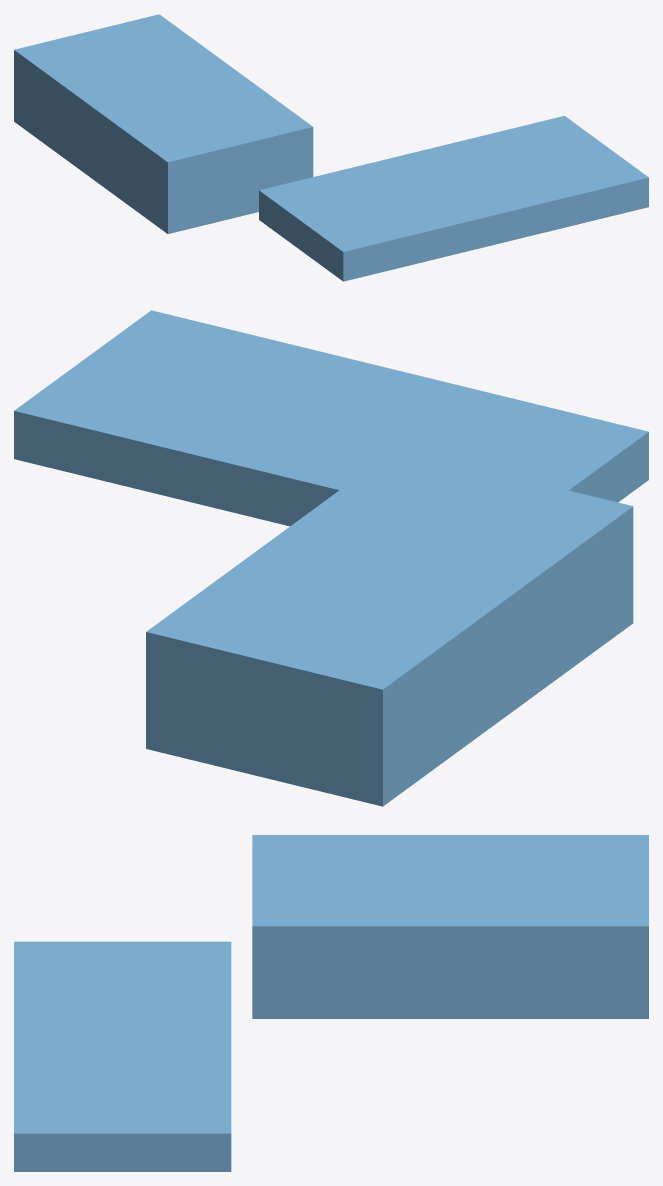
File: seikyo.gltf
3 views of the same model, one above another, from view 1: azimuth 30°, elevation 25°; view 2: azimuth 150°, elevation 25°; view 3: azimuth 270°, elevation 25° (orthographic). The views are drawn at different scales.
Parts seen in each view (by area): view 1: 立方体.011, 立方体.010; view 2: 立方体.011, 立方体.010; view 3: 立方体.011, 立方体.010.
Boxes of the visible parts, left/top/right/bottom form: 立方体.011: left=14, top=14, right=313, bottom=233; 立方体.010: left=259, top=116, right=648, bottom=281; 立方体.011: left=146, top=448, right=633, bottom=806; 立方体.010: left=14, top=310, right=648, bottom=526; 立方体.011: left=252, top=835, right=648, bottom=1018; 立方体.010: left=14, top=941, right=231, bottom=1171.
Bounding box in the file's own units: 25.75 × 4.55 × 28.28.
